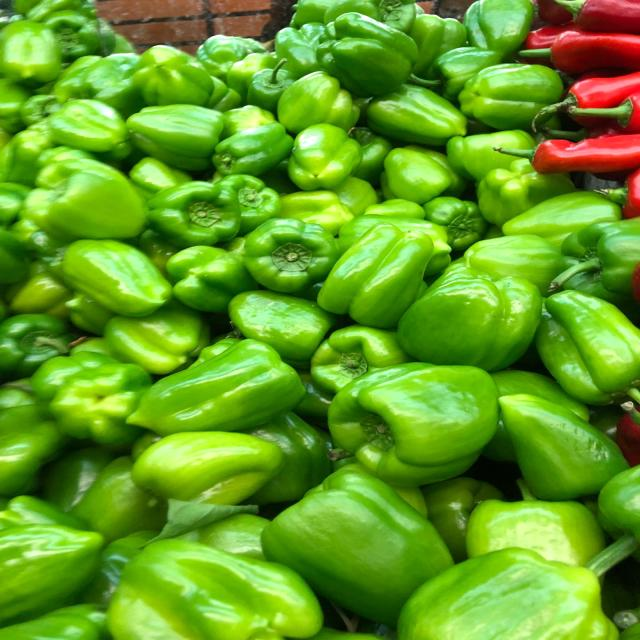bell pepper: (252, 460, 469, 627), (319, 349, 512, 492), (119, 335, 320, 443), (395, 265, 556, 369), (310, 8, 438, 98), (232, 213, 344, 296), (138, 177, 246, 244), (284, 120, 368, 195)
